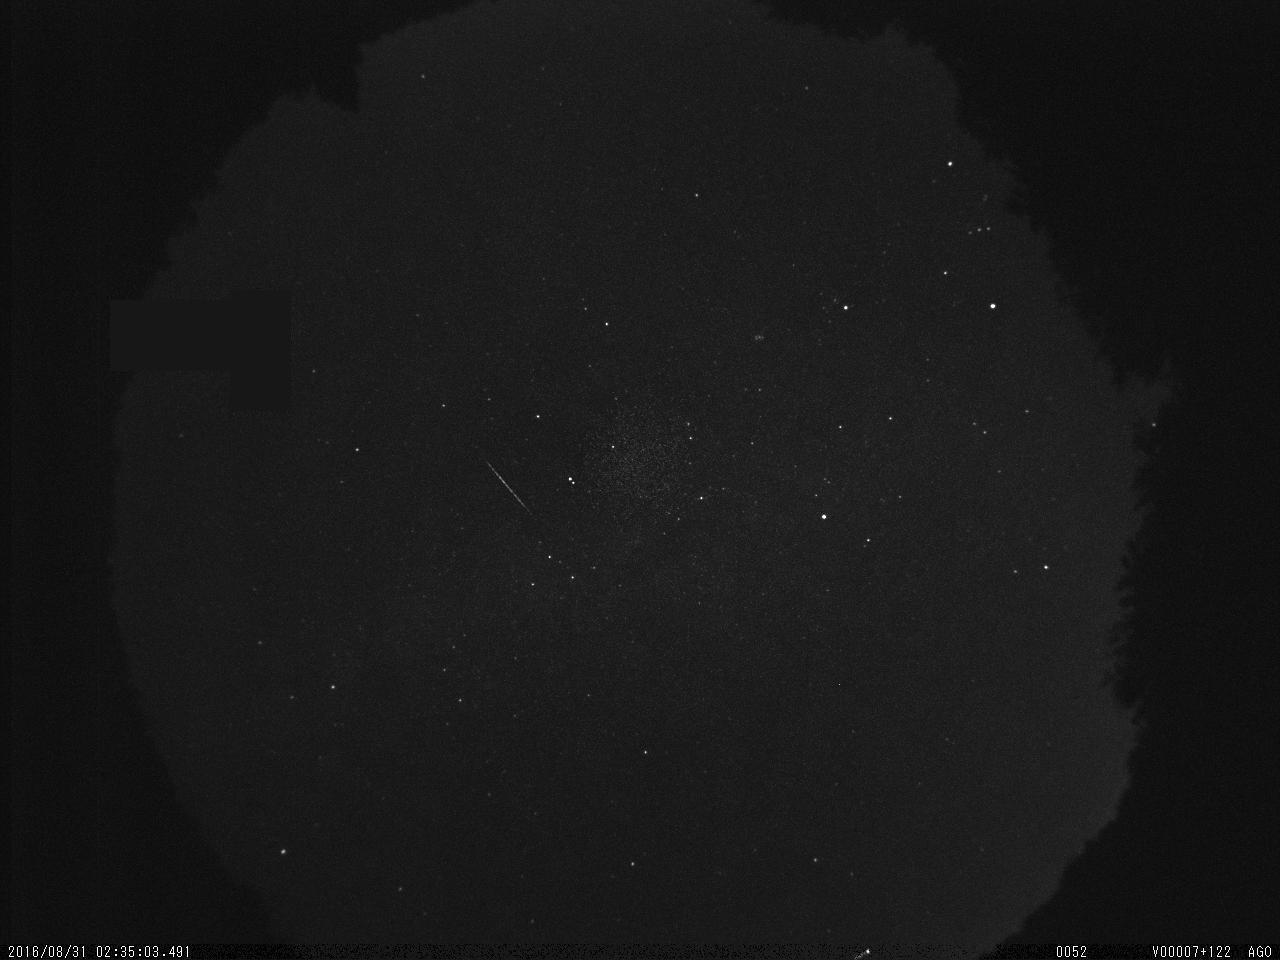meteor: (464, 441, 549, 532)
